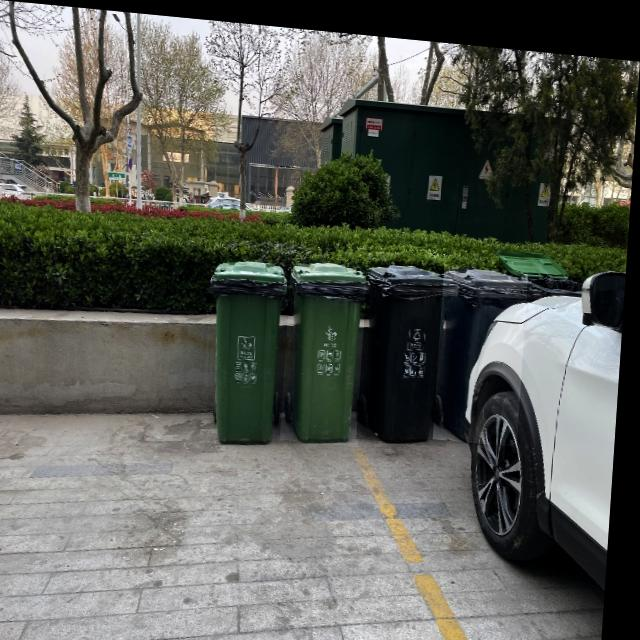garbage_bin: (362, 252, 461, 438), (438, 255, 531, 436), (286, 251, 374, 439), (206, 250, 290, 440)
